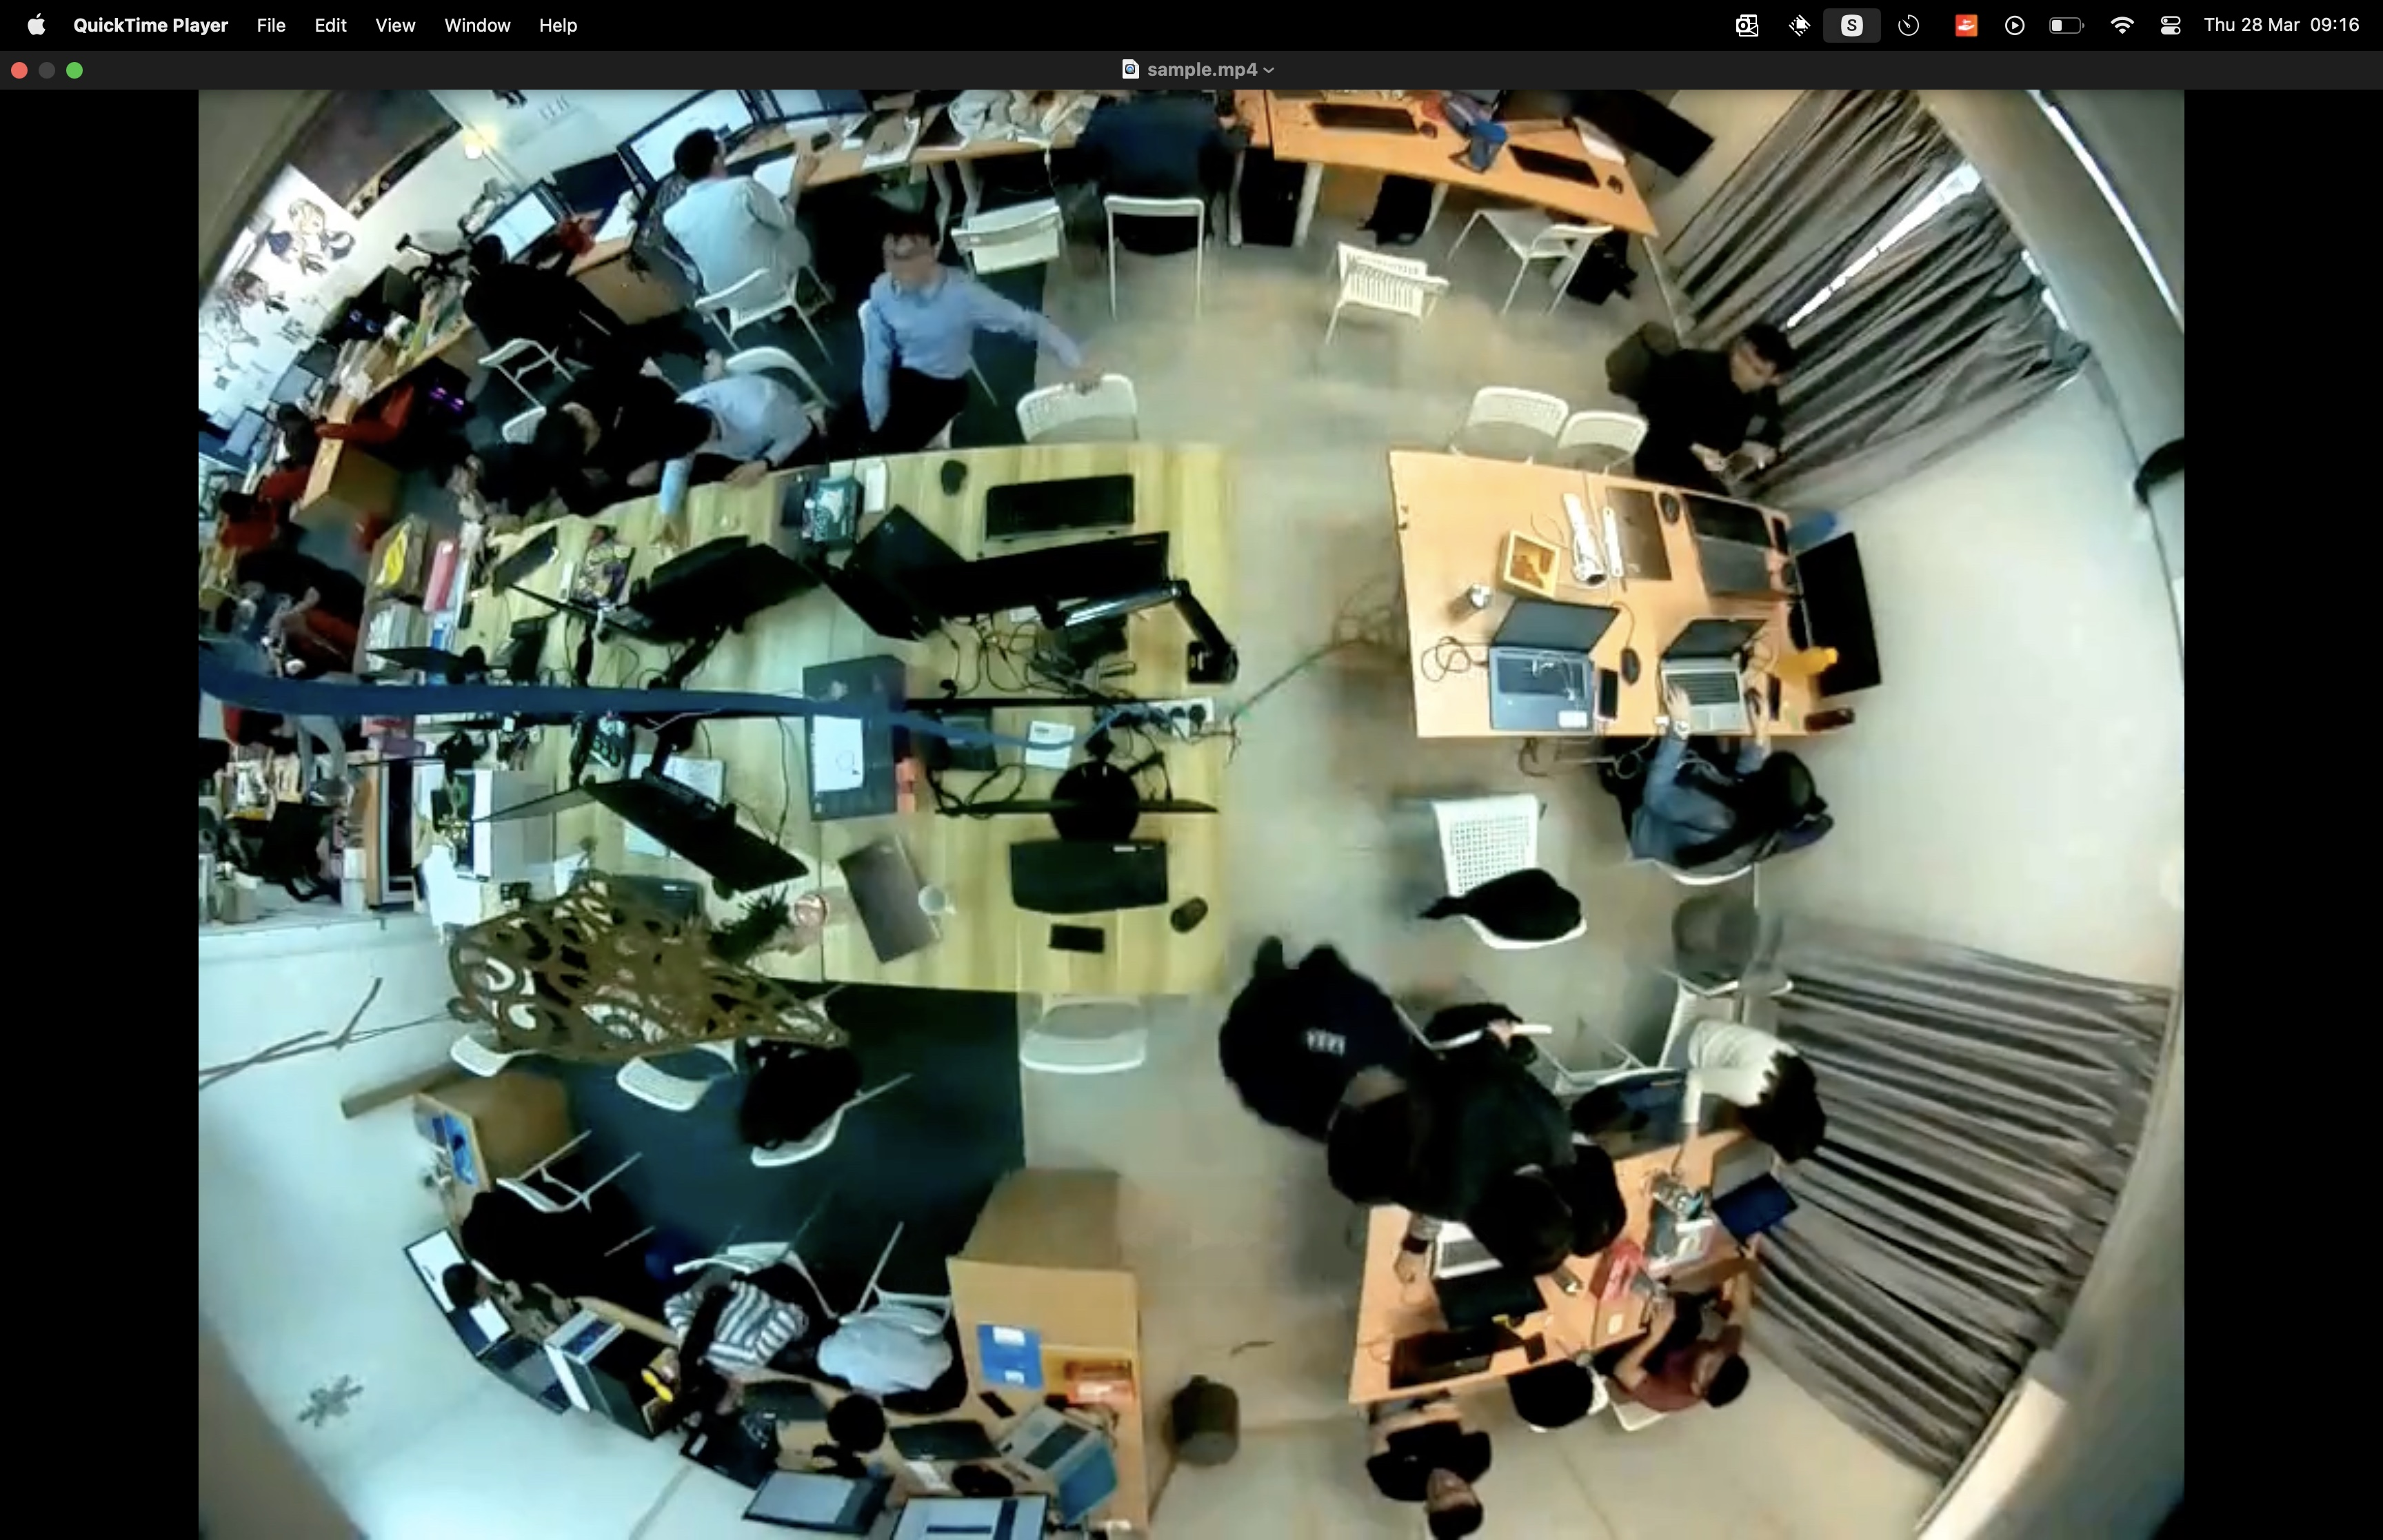Staff: (1209, 934, 1442, 1201)
